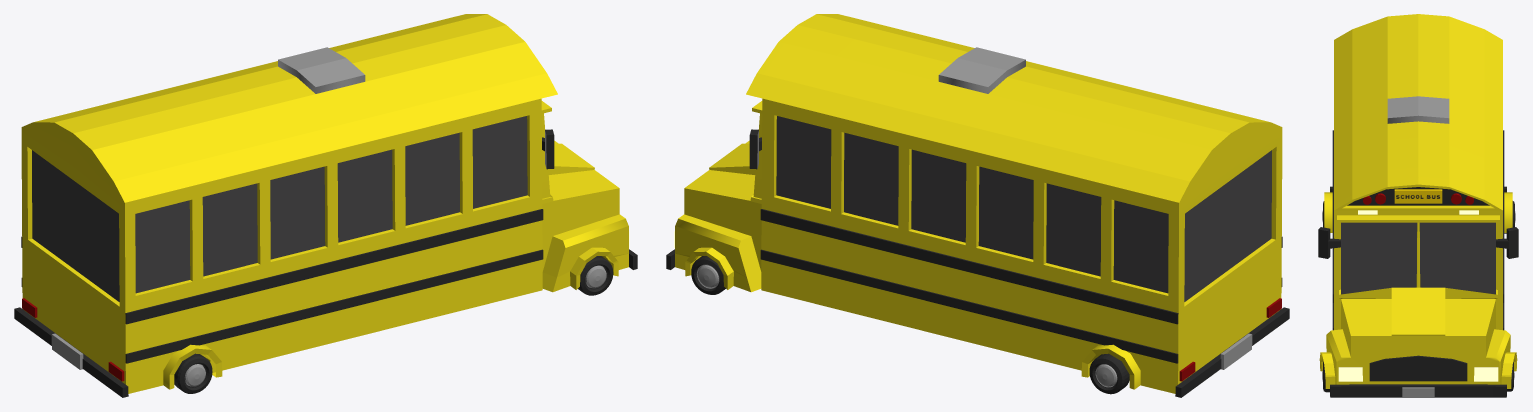
Rendered from schoolbus 1.fbx.
3 views of the same model, side by side, from view 1: azimuth 30°, elevation 25°; view 2: azimuth 150°, elevation 25°; view 3: azimuth 270°, elevation 25° (orthographic). The views are drawn at different scales.
Parts seen in each view (by area): view 1: SchoolBus, g24.wheel_fl.004, g24.wheel_fl.003; view 2: SchoolBus, g24.wheel_fl.002, g24.wheel_fl.001; view 3: SchoolBus.
Part boxes in pixels (x1,y1,x2,y2): SchoolBus: (14,14,637,397); g24.wheel_fl.004: (174,353,212,393); g24.wheel_fl.003: (578,256,613,295); SchoolBus: (666,14,1289,397); g24.wheel_fl.002: (1089,353,1129,394); g24.wheel_fl.001: (691,256,725,294); SchoolBus: (1318,14,1518,397).
Bounding box in the file's own units: 4.63 × 2.07 × 1.89.
